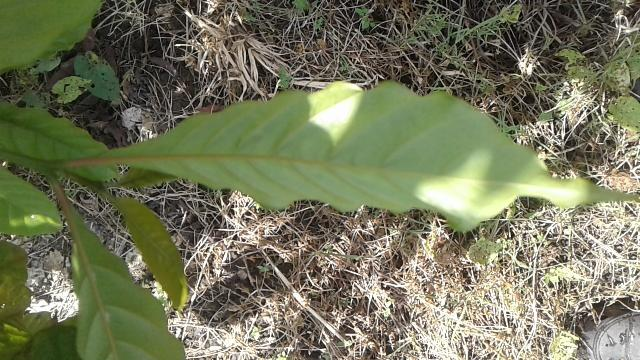healthy: (95, 76, 640, 235)
